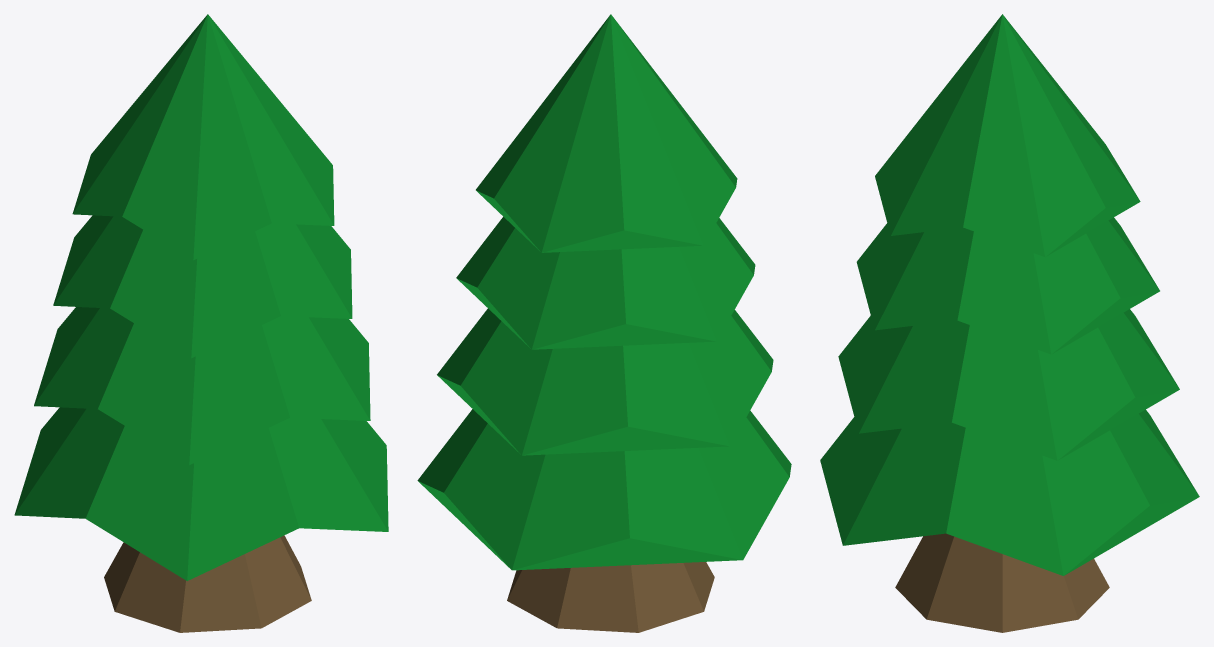
The model's file is PineTree_1.fbx.
3 views of the same model, side by side, from view 1: azimuth 30°, elevation 25°; view 2: azimuth 150°, elevation 25°; view 3: azimuth 270°, elevation 25° (orthographic).
Parts seen in each view (by area): view 1: Cone.001, Cone, Cone.002, Cone.003, Cylinder; view 2: Cone.001, Cone, Cone.002, Cone.003, Cylinder; view 3: Cone.001, Cone, Cone.002, Cone.003, Cylinder.
Part boxes in pixels (x1,y1,x2,y2): Cone.001: (14,407,388,580); Cone: (72,14,334,260); Cone.002: (34,307,370,465); Cone.003: (53,215,352,358); Cylinder: (104,535,311,632); Cone.001: (417,409,791,570); Cone: (476,14,737,252); Cone.002: (437,308,773,455); Cone.003: (456,216,755,349); Cylinder: (507,562,714,632); Cone.001: (820,409,1199,575); Cone: (875,14,1140,256); Cone.002: (838,309,1179,460); Cone.003: (856,217,1159,354); Cylinder: (895,533,1109,632).
Size of the model in its own units: 190 by 321 by 192.
